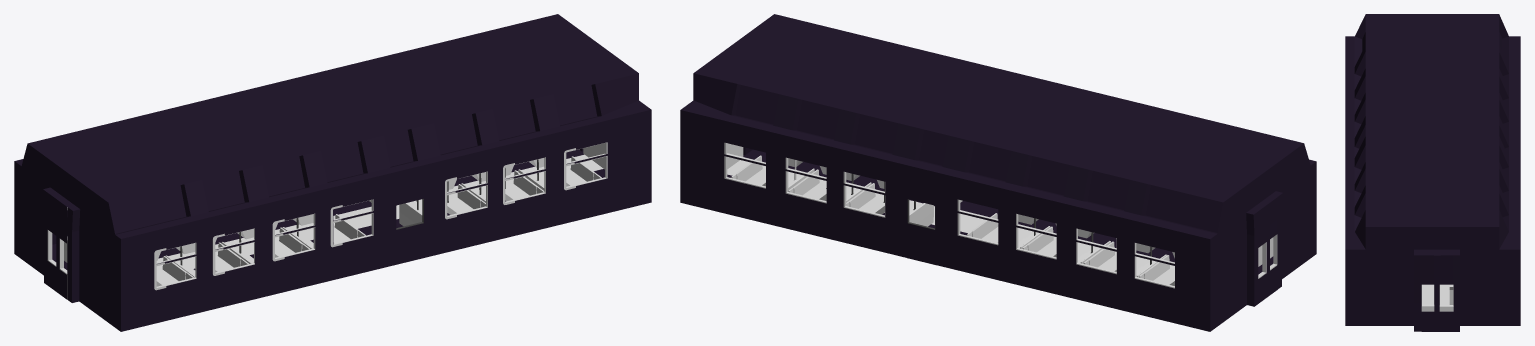
File: bago prueba .fbx
3 views of the same model, side by side, from view 1: azimuth 30°, elevation 25°; view 2: azimuth 150°, elevation 25°; view 3: azimuth 270°, elevation 25° (orthographic). The views are drawn at different scales.
Visible parts, largest first — view 1: BAGON.001, silla, ventana; view 2: BAGON.001, silla, ventana; view 3: BAGON.001, puerta centra final.
Part boxes in pixels (bbox=[...]): BAGON.001: bbox=[14, 14, 651, 331]; silla: bbox=[64, 156, 601, 286]; ventana: bbox=[67, 142, 607, 290]; BAGON.001: bbox=[680, 14, 1316, 331]; silla: bbox=[731, 155, 1273, 285]; ventana: bbox=[724, 142, 1174, 288]; BAGON.001: bbox=[1345, 14, 1520, 331]; puerta centra final: bbox=[1421, 285, 1453, 311].
Size of the model in its own units: 2200 by 458 by 734.
